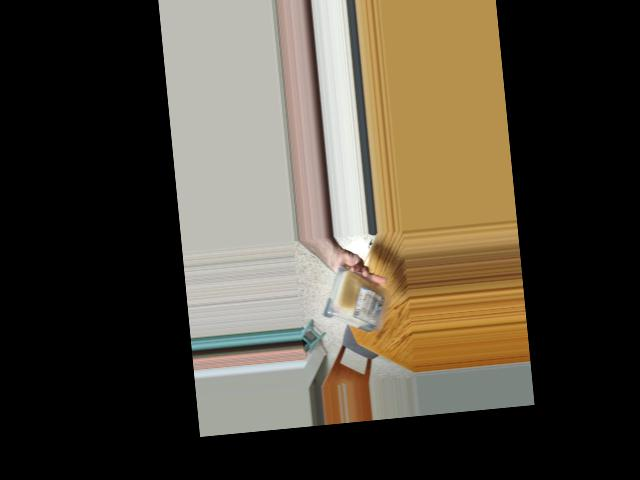cheese: (320, 279, 389, 336)
